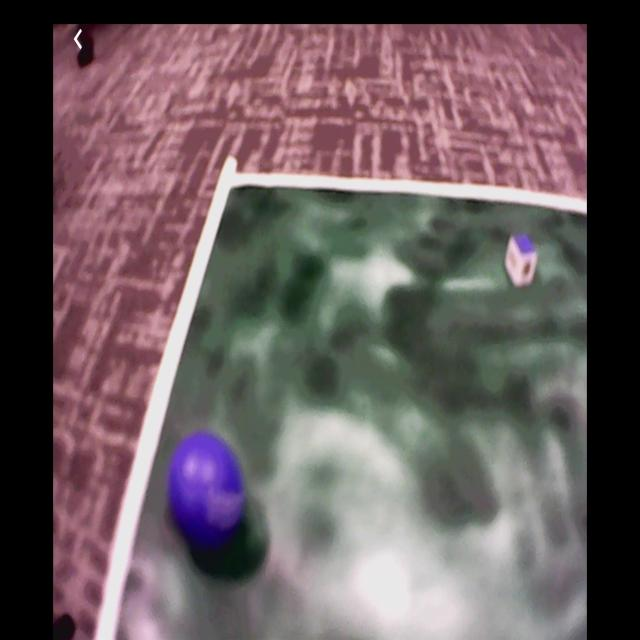ball: (170, 435, 244, 543)
